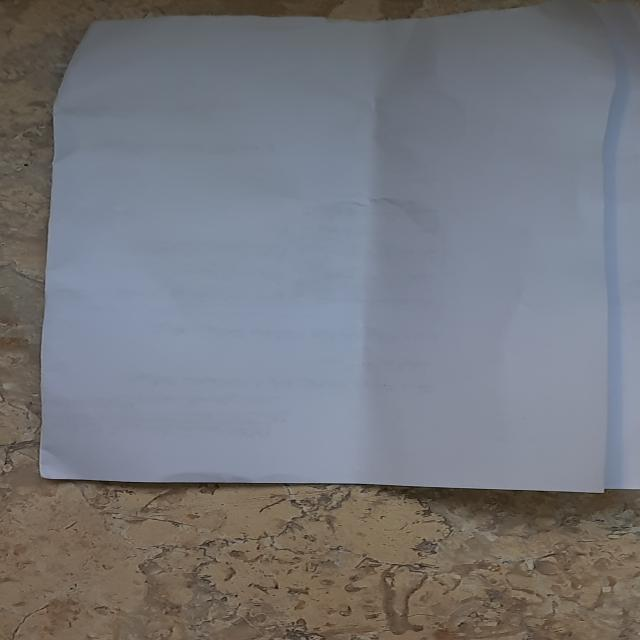paper: (36, 3, 640, 496)
